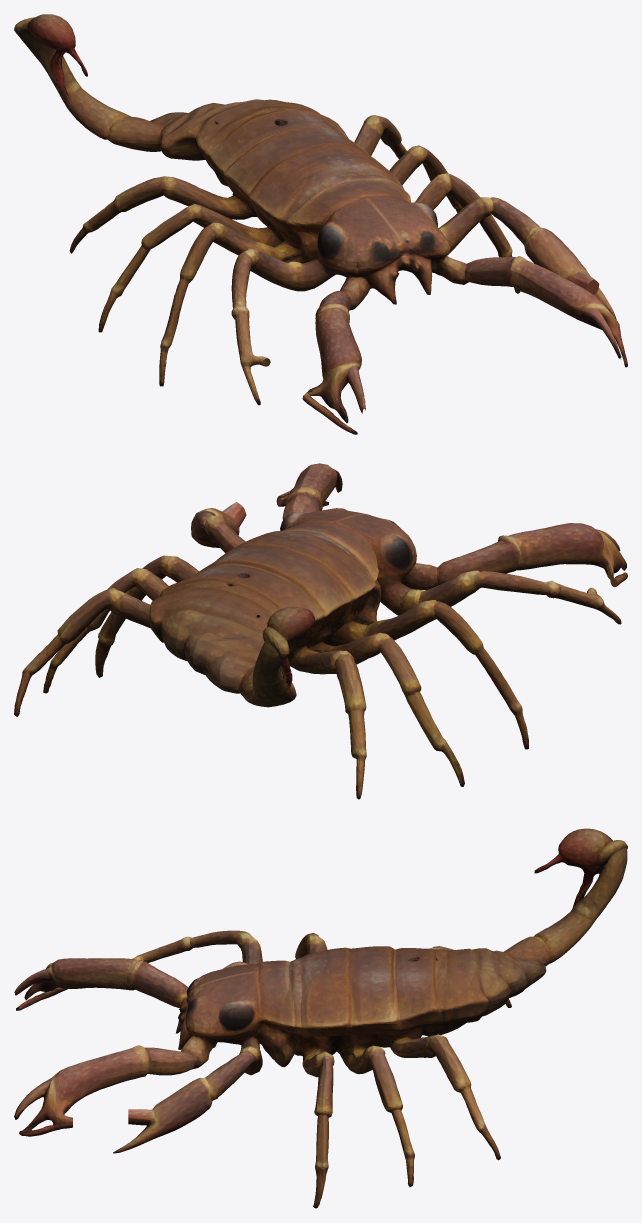
3 renders of one model, top to bottom at view 1: azimuth 30°, elevation 25°; view 2: azimuth 150°, elevation 25°; view 3: azimuth 270°, elevation 25°, orthographic. The views are drawn at different scales.
Parts seen in each view (by area): view 1: world; view 2: world; view 3: world.
Boxes of the visible parts, bbox=[...] form: world: bbox=[14, 14, 627, 434]; world: bbox=[14, 463, 627, 799]; world: bbox=[14, 828, 627, 1208].
Size of the model in its own units: 0.6629 by 0.4137 by 0.9983.
Materials: 1 (1 with a texture image).
